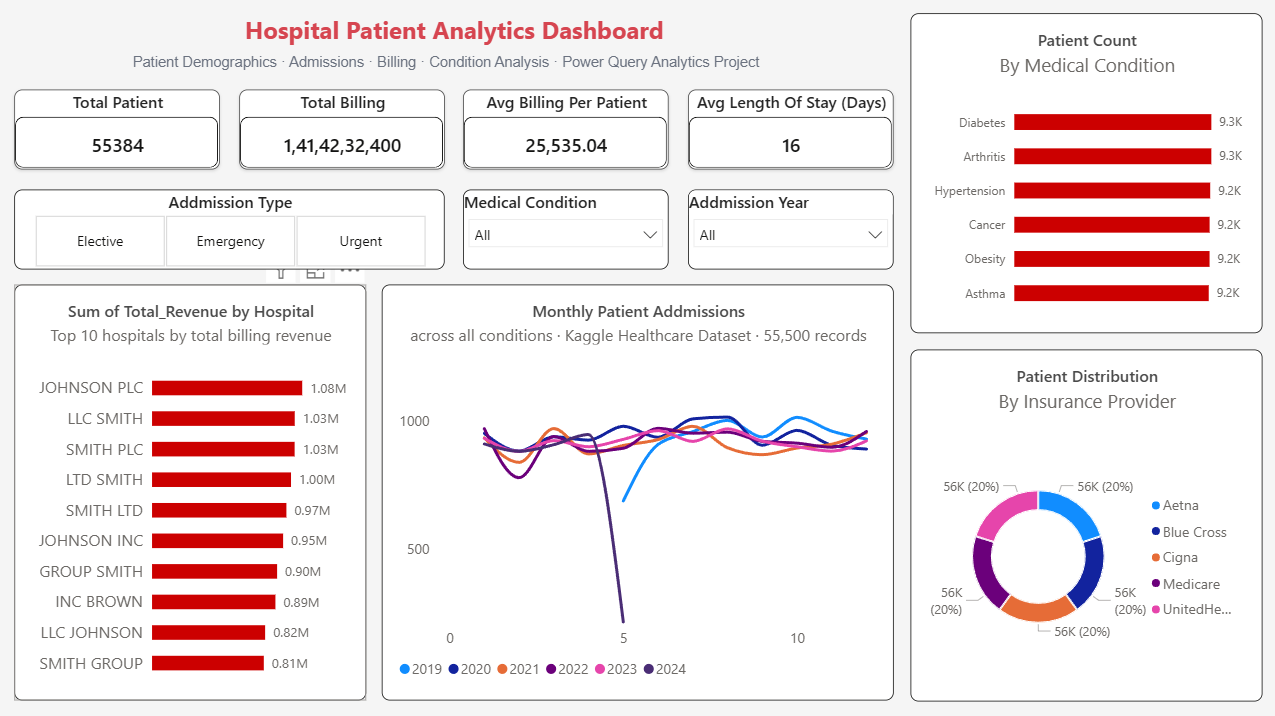

This screenshot's page, from the dashboard's own definition file:
{"tool":"powerbi","page":{"name":"Dashboard","canvas":[1280,720],"ordinal":0},"visuals":[{"type":"cardVisual","title":"Total Patient","fields":{"Data":["CountNonNull(healthcare_dataset.Patient_ID)"]},"box":[16,92.2,206,80],"z":0,"group":"g1"},{"type":"cardVisual","title":"Total Billing","fields":{"Data":["Sum(healthcare_dataset.Billing_Amount_Fixed)"]},"box":[240.7,92.2,206,80],"z":1000,"group":"g1"},{"type":"cardVisual","title":"Avg Billing Per Patient","fields":{"Data":["Avg(healthcare_dataset.Billing_Amount_Fixed)"]},"box":[465.4,92.2,206,80],"z":2000,"group":"g1"},{"type":"cardVisual","title":"Avg Length Of Stay (Days)","fields":{"Data":["Avg(healthcare_dataset.Length_of_Stay_Days)"]},"box":[690,92.2,206,80],"z":3000,"group":"g1"},{"type":"clusteredBarChart","title":"Patient Count","fields":{"Category":["healthcare_dataset.Medical Condition"],"Y":["CountNonNull(healthcare_dataset.Patient_ID)"]},"box":[912,16,352,320],"z":4000},{"type":"clusteredBarChart","fields":{"Category":["Hospital_Summary.Hospital"],"Y":["Sum(Hospital_Summary.Total_Revenue)"]},"box":[16,288,352,416],"z":5000},{"type":"lineChart","title":"Monthly Patient Addmissions","fields":{"Category":["Monthly_Admission.Admission_Month_Num"],"Series":["Monthly_Admission.Admission_Year"],"Y":["Sum(Monthly_Admission.Monthly_Count)"]},"box":[384,288,512,416],"z":6000},{"type":"donutChart","title":"Patient Distribution","fields":{"Category":["healthcare_dataset.Insurance Provider"],"Y":["Sum(Insurance_Summary.Covered_Patient)"]},"box":[912,352,352,352],"z":7000},{"type":"slicer","title":"Addmission Type","fields":{"Values":["healthcare_dataset.Admission Type"]},"box":[16,192.9,430.6,80],"z":7001,"group":"g2"},{"type":"slicer","title":"Medical Condition","fields":{"Values":["healthcare_dataset.Medical Condition"]},"box":[465.4,192.9,206,80],"z":7002,"group":"g2"},{"type":"slicer","title":"Addmission Year","fields":{"Values":["healthcare_dataset.Admission_Year"]},"box":[690,192.9,206,80],"z":7004,"group":"g2"},{"type":"group","id":"g1","title":"Group 1","box":[16,92.2,880,80],"z":7005},{"type":"group","id":"g2","title":"Group 2","box":[16,192.9,880,80],"z":7006},{"type":"textbox","box":[16,16,880,38.4],"z":7007,"group":"g3"},{"type":"textbox","box":[0,54.4,896,57.6],"z":7008,"group":"g3"},{"type":"group","id":"g3","title":"Group 3","box":[0,16,896,96],"z":7009}]}

Visuals, with their boxes in screenshot pixels (x1, y1, x2, y2), scaled from the page's 1280x720 canvas onto the 1275x716 screenshot:
"Total Patient" cardVisual: 16, 92, 221, 171
"Total Billing" cardVisual: 240, 92, 445, 171
"Avg Billing Per Patient" cardVisual: 464, 92, 669, 171
"Avg Length Of Stay (Days)" cardVisual: 687, 92, 892, 171
"Patient Count" clusteredBarChart: 908, 16, 1259, 334
clusteredBarChart - Hospital_Summary.Hospital x Sum(Hospital_Summary.Total_Revenue): 16, 286, 367, 700
"Monthly Patient Addmissions" lineChart: 382, 286, 892, 700
"Patient Distribution" donutChart: 908, 350, 1259, 700
"Addmission Type" slicer: 16, 192, 445, 271
"Medical Condition" slicer: 464, 192, 669, 271
"Addmission Year" slicer: 687, 192, 892, 271
"Group 1" group: 16, 92, 892, 171
"Group 2" group: 16, 192, 892, 271
textbox: 16, 16, 892, 54
textbox: 0, 54, 892, 111
"Group 3" group: 0, 16, 892, 111
